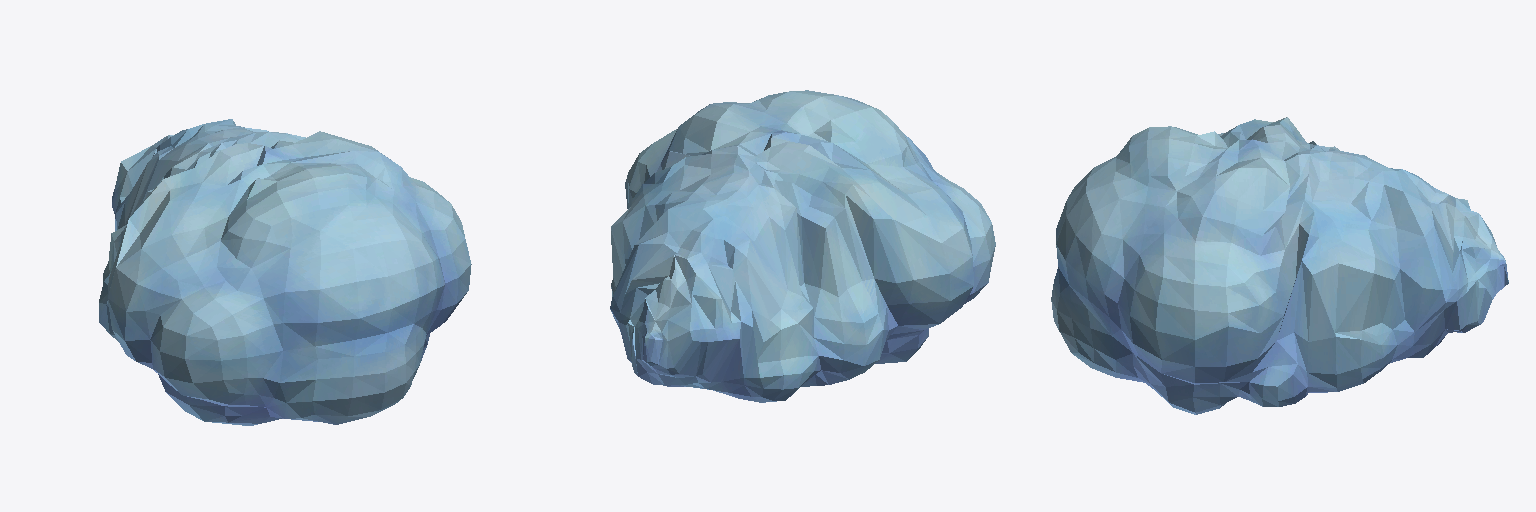
The picture shows the model from 3 angles: view 1: azimuth 30°, elevation 25°; view 2: azimuth 150°, elevation 25°; view 3: azimuth 270°, elevation 25°; orthographic projection.
Parts seen in each view (by area): view 1: Cloud:Mesh; view 2: Cloud:Mesh; view 3: Cloud:Mesh.
Boxes of the visible parts, x1,y1,x2,y2 form: Cloud:Mesh: [99, 119, 471, 425]; Cloud:Mesh: [610, 90, 995, 402]; Cloud:Mesh: [1051, 117, 1508, 414].
Bounding box in the file's own units: 53.76 × 36.02 × 63.18.
Materials: 1 (1 with a texture image).